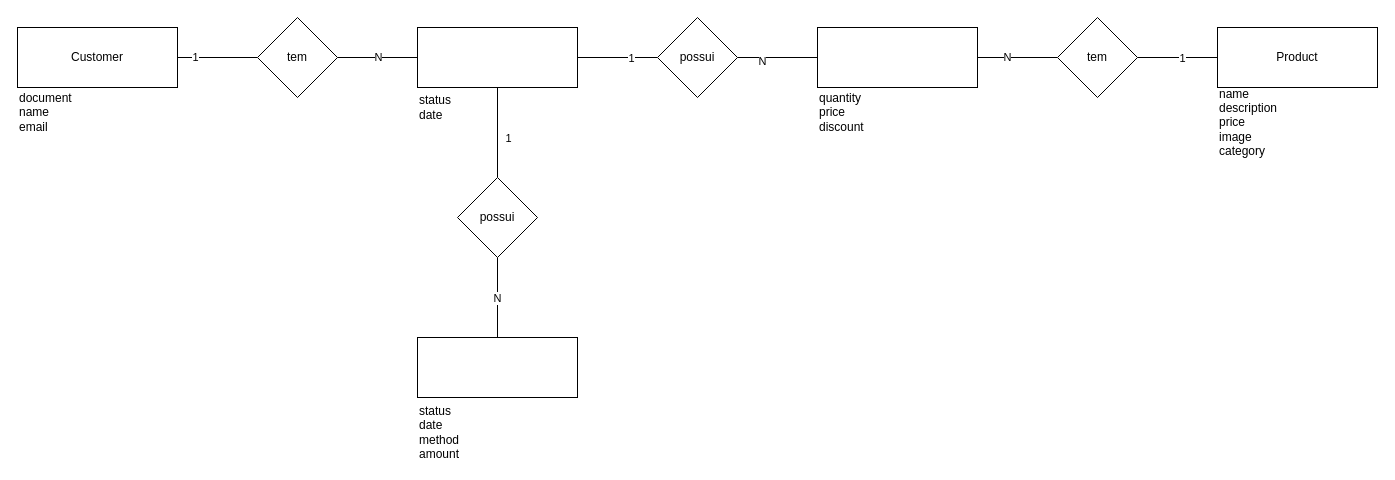
Image size: 1395x480. Some labels were removed from this diagram. The centre of each missing label's shape, as x and y in pixels:
"Order" belongs at [497,57].
"Order Item" belongs at [897,57].
"Payment" belongs at [497,367].
